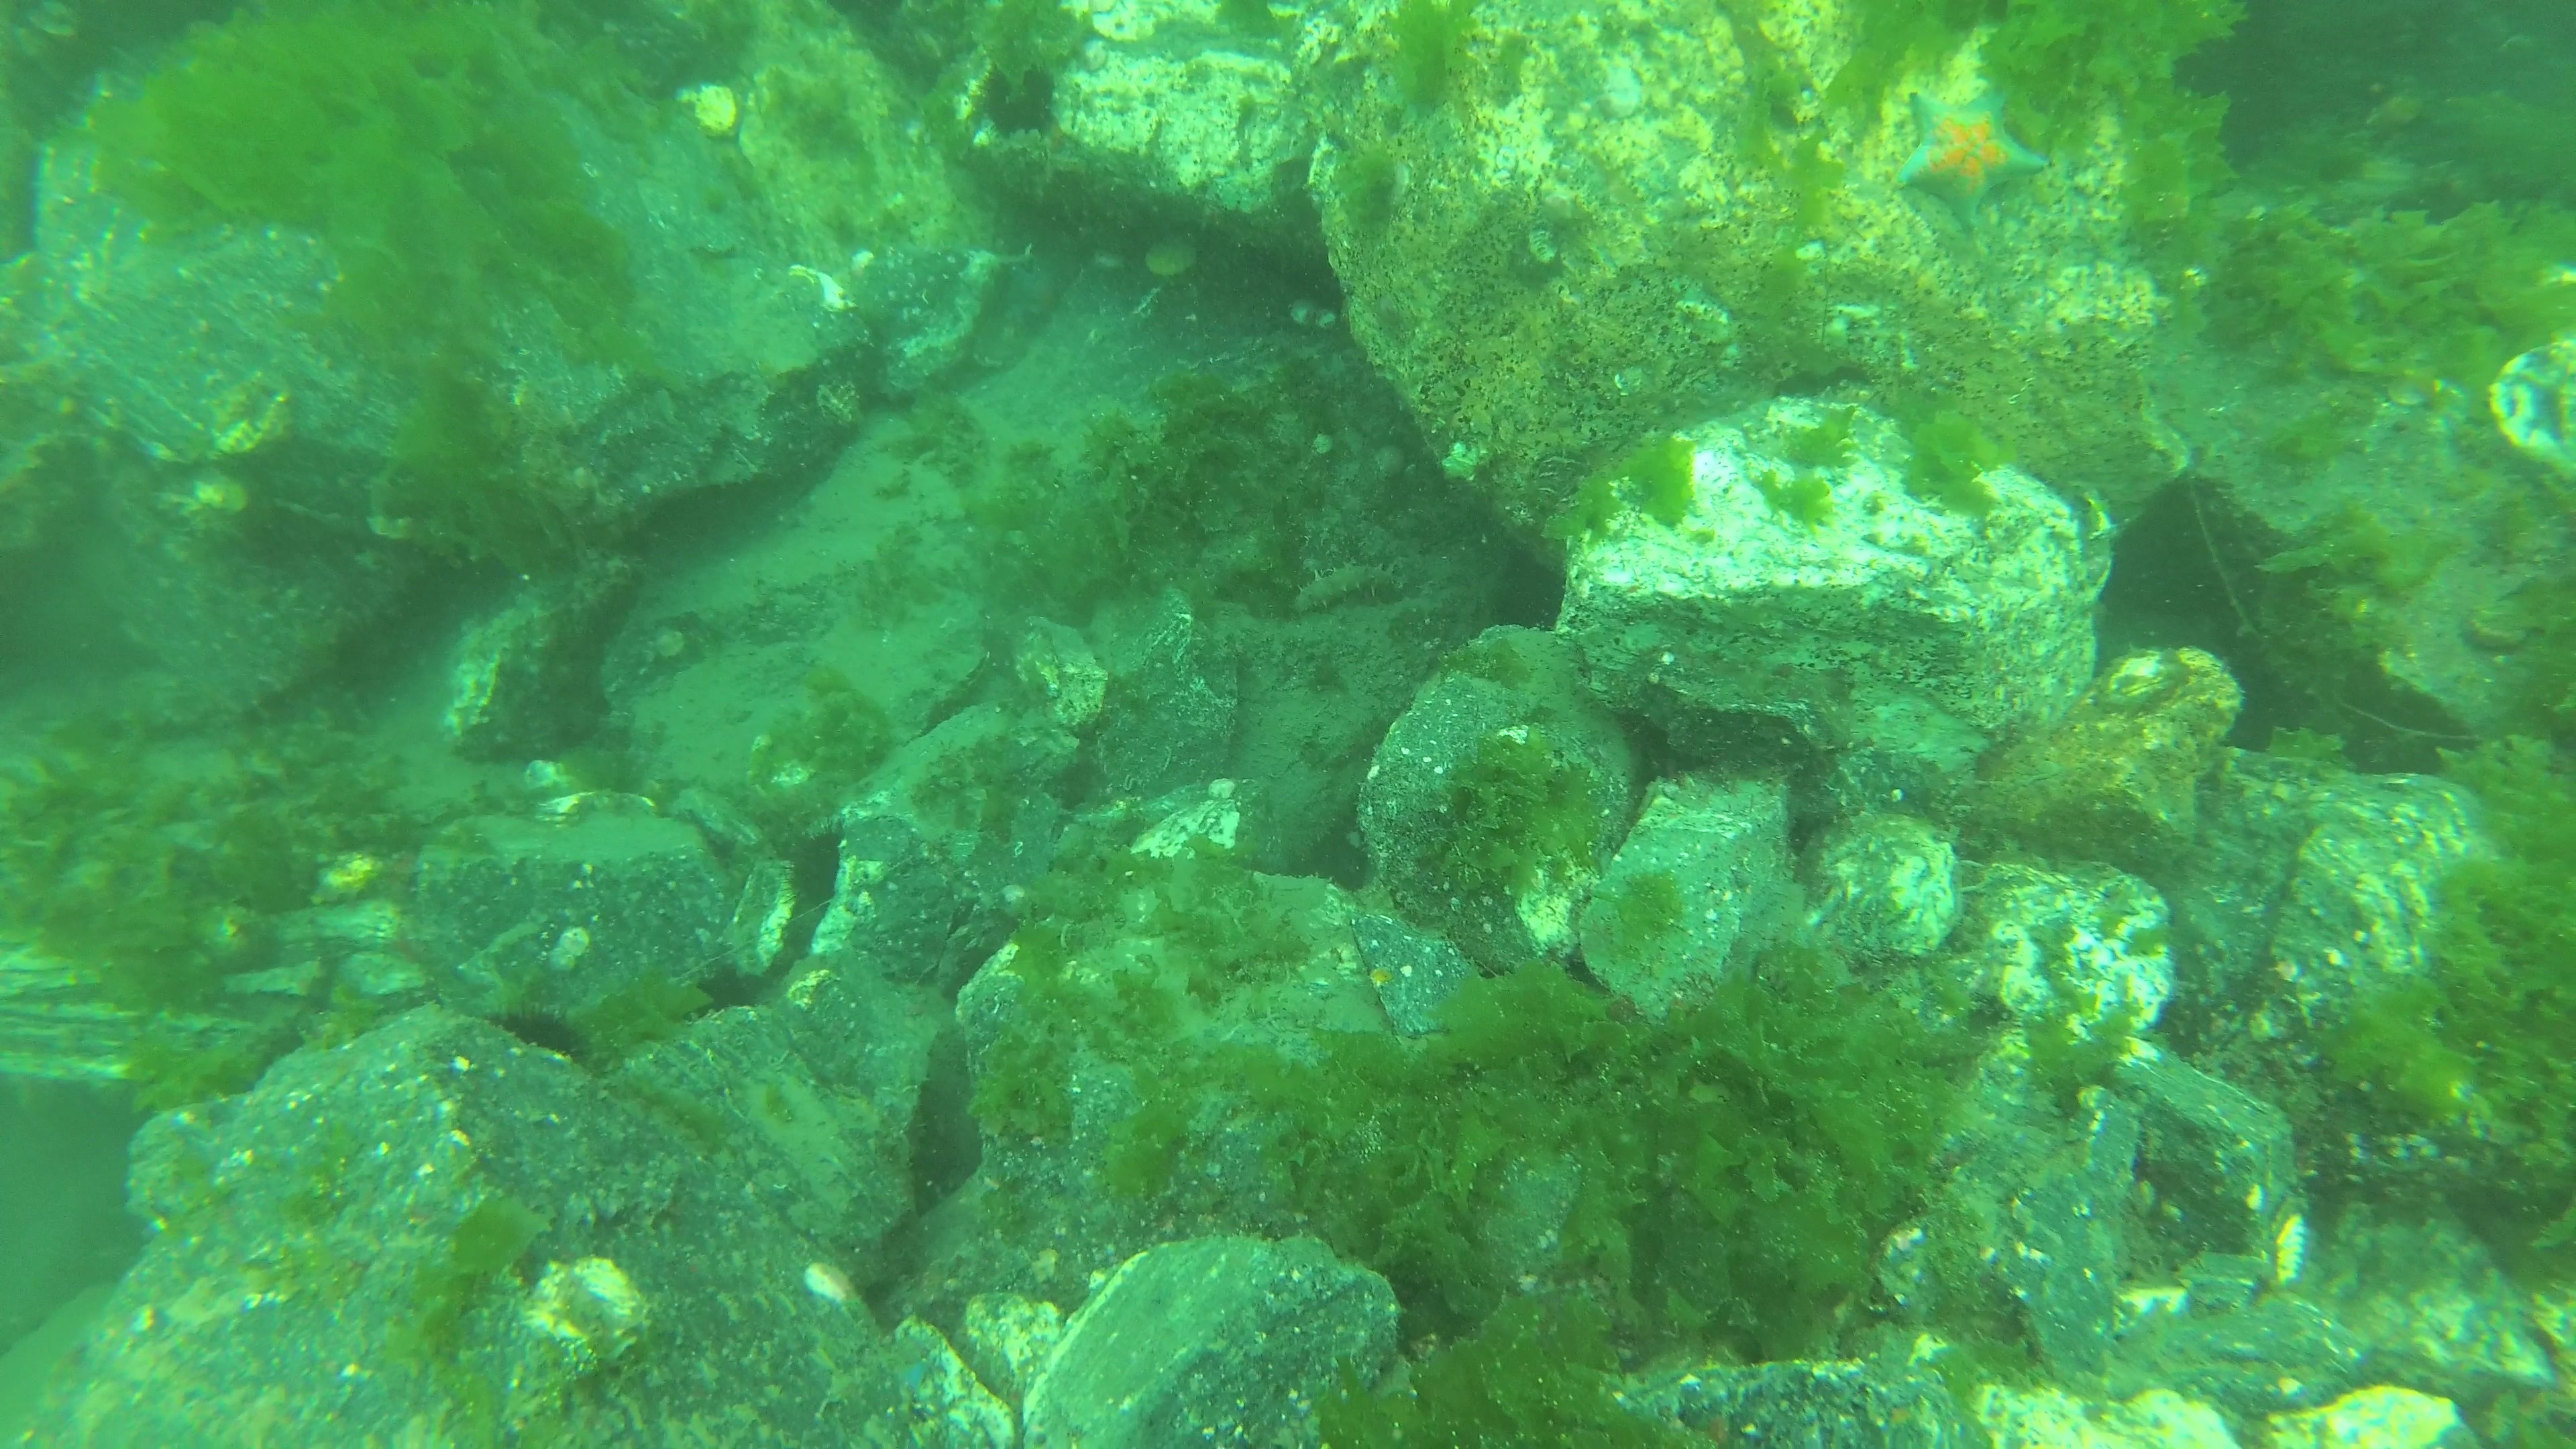echinus: (971, 58, 1065, 150), (770, 823, 853, 915), (674, 962, 770, 1039), (483, 1001, 589, 1063)
holothurian: (1284, 556, 1417, 621)
starfish: (1891, 87, 2049, 234)
